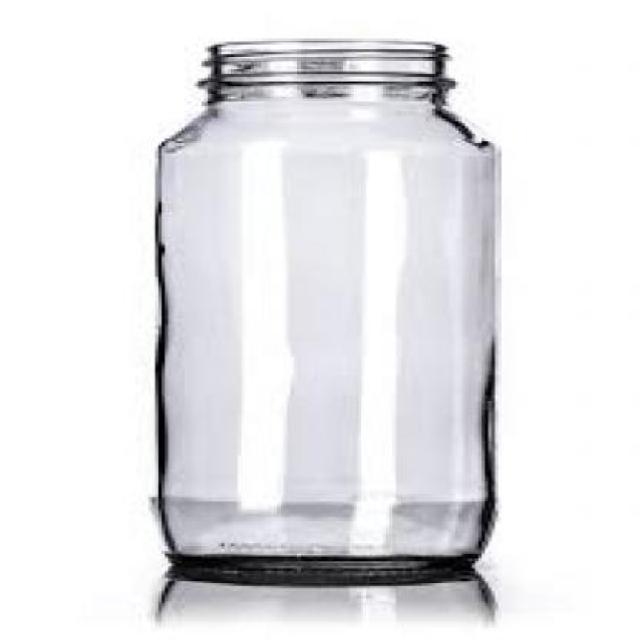GLASS: (152, 37, 488, 571)
